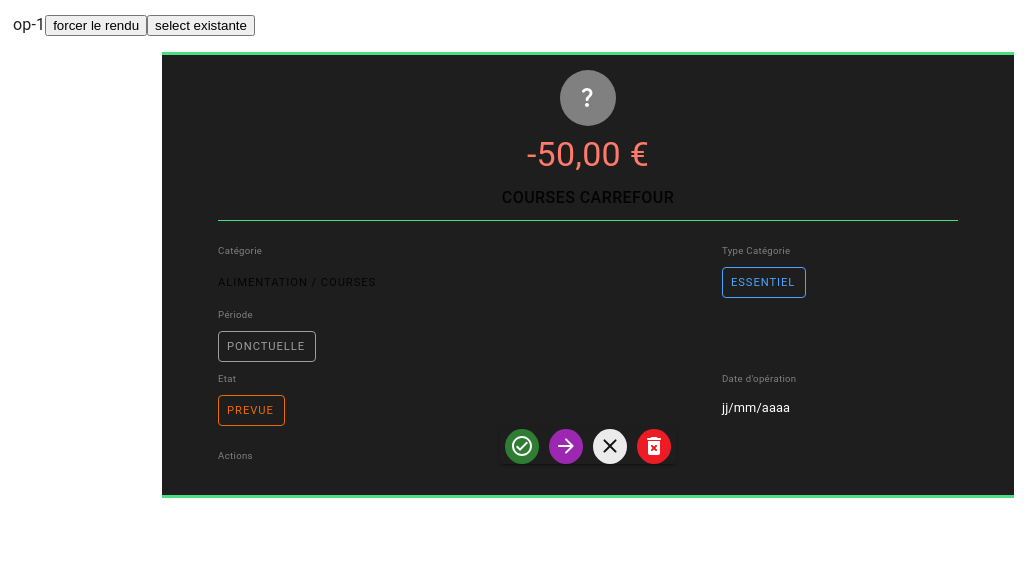
OperationDetailPage - intégration › ouverture de l'édition au clic sur un champ › un seul clic sur le champ libelle l'ouvre, sans re-rendu forcé
The width and height of the screenshot is (1031, 571).
Click the text "Courses Carrefour": (588, 198) [502,188,674,207]
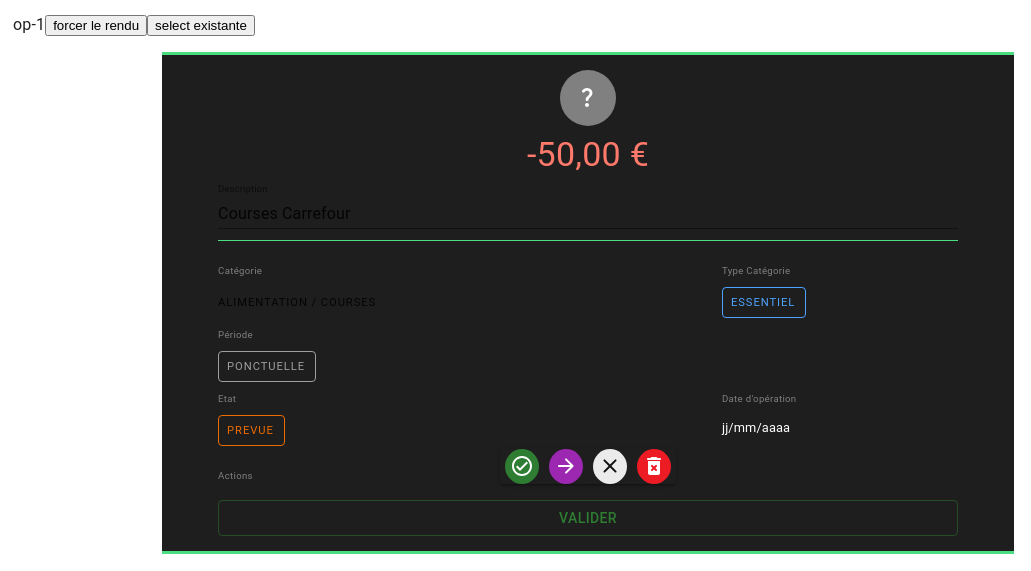
Expected: the dropdown labelled "Description" holds "Courses Carrefour", [218,200,928,228]
Expected: the button "Valider" is shown, [218,500,958,536]
